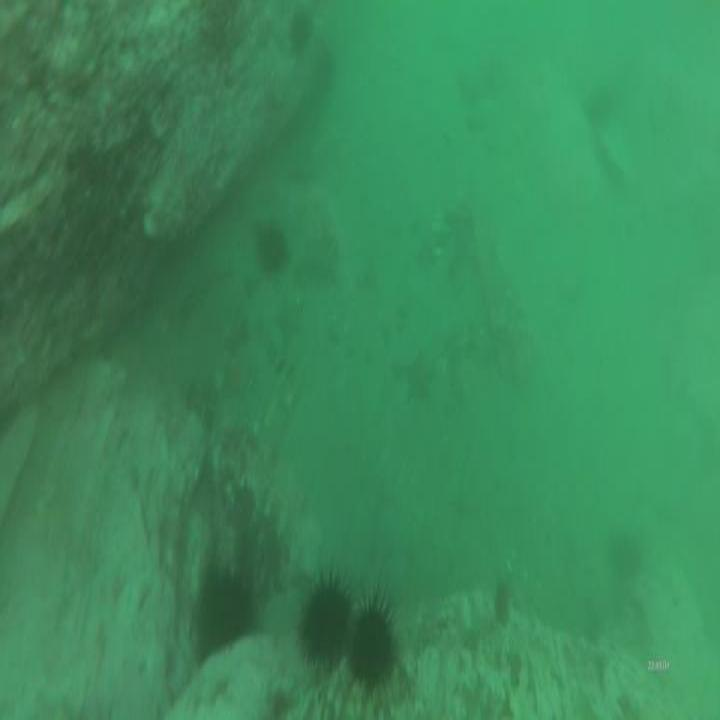echinus: (295, 567, 359, 683), (340, 581, 400, 704), (191, 565, 260, 665), (252, 212, 291, 282), (286, 7, 317, 61)
starfish: (402, 345, 435, 409)
